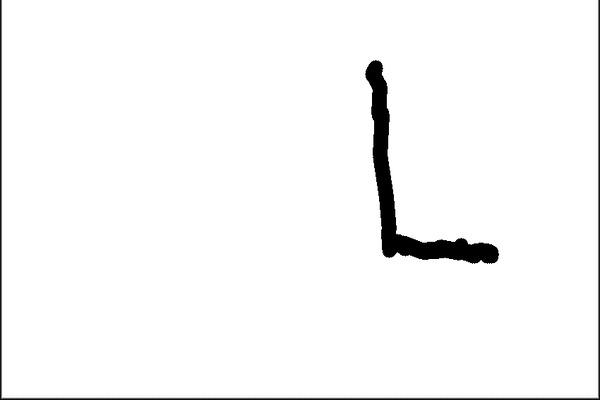L: (355, 51, 505, 271)
